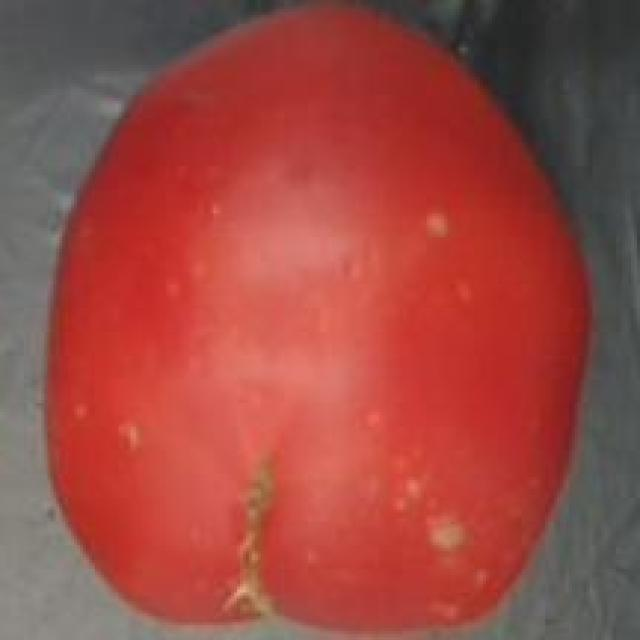overripe tomato: (41, 0, 602, 640)
